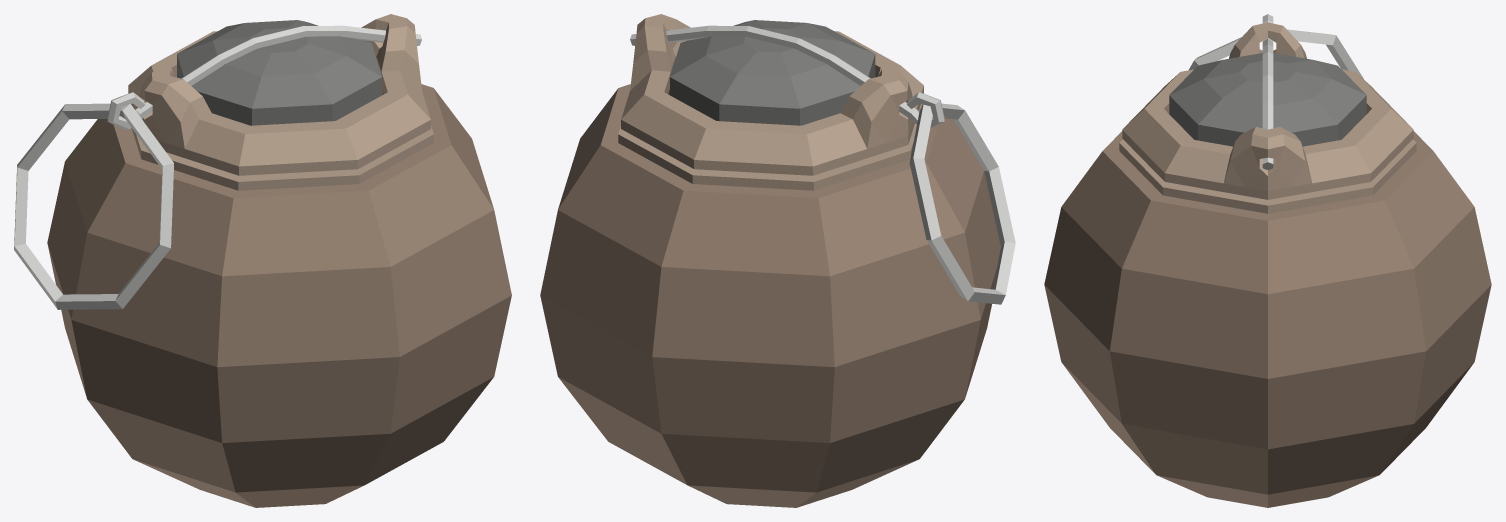
File: SM_Bomb_013.fbx
3 renders of one model, left to right at view 1: azimuth 30°, elevation 25°; view 2: azimuth 150°, elevation 25°; view 3: azimuth 270°, elevation 25°, orthographic. The views are drawn at different scales.
Parts seen in each view (by area): view 1: SM_Bomb_013; view 2: SM_Bomb_013; view 3: SM_Bomb_013.
Part boxes in pixels (x1=…): SM_Bomb_013: x1=14, y1=14, x2=511, y2=507; SM_Bomb_013: x1=540, y1=14, x2=1015, y2=507; SM_Bomb_013: x1=1044, y1=14, x2=1491, y2=507.
Size of the model in its own units: 2.47 by 2.43 by 2.33.
Materials: 1 (1 with a texture image).
